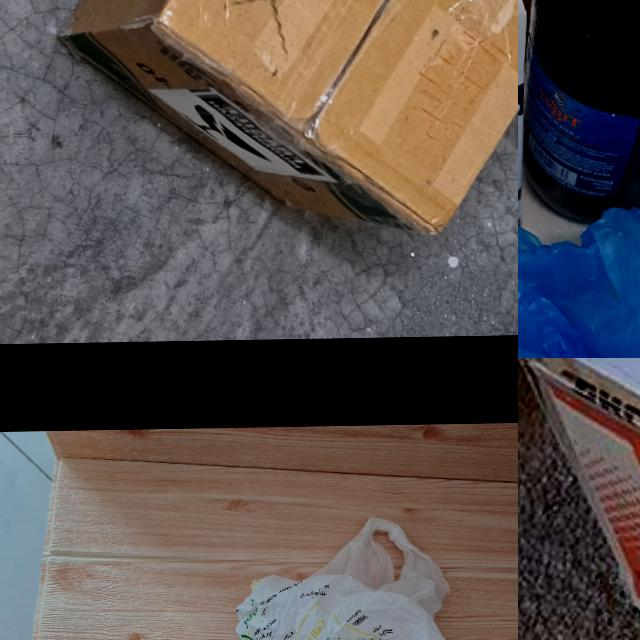garrafa de vidro: (520, 0, 640, 222)
papelão: (55, 0, 518, 238), (518, 358, 640, 640)
sacola plástica: (233, 514, 497, 640), (518, 192, 640, 358)
